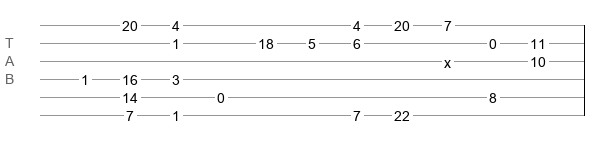0: (217, 90, 225, 100), (489, 36, 497, 46)
1: (81, 72, 89, 82), (172, 36, 180, 46), (172, 108, 180, 118)
10: (530, 54, 546, 64)
11: (530, 36, 546, 46)
14: (122, 90, 138, 100)
16: (122, 72, 138, 82)
18: (258, 36, 274, 46)
20: (122, 18, 138, 28), (394, 18, 410, 28)
22: (394, 108, 410, 118)
3: (172, 72, 180, 82)
4: (172, 18, 180, 28), (353, 18, 361, 28)
5: (308, 36, 316, 46)
6: (353, 36, 361, 46)
7: (126, 108, 134, 118), (353, 108, 361, 118), (444, 18, 452, 28)
8: (489, 90, 497, 100)
x: (444, 55, 451, 63)
